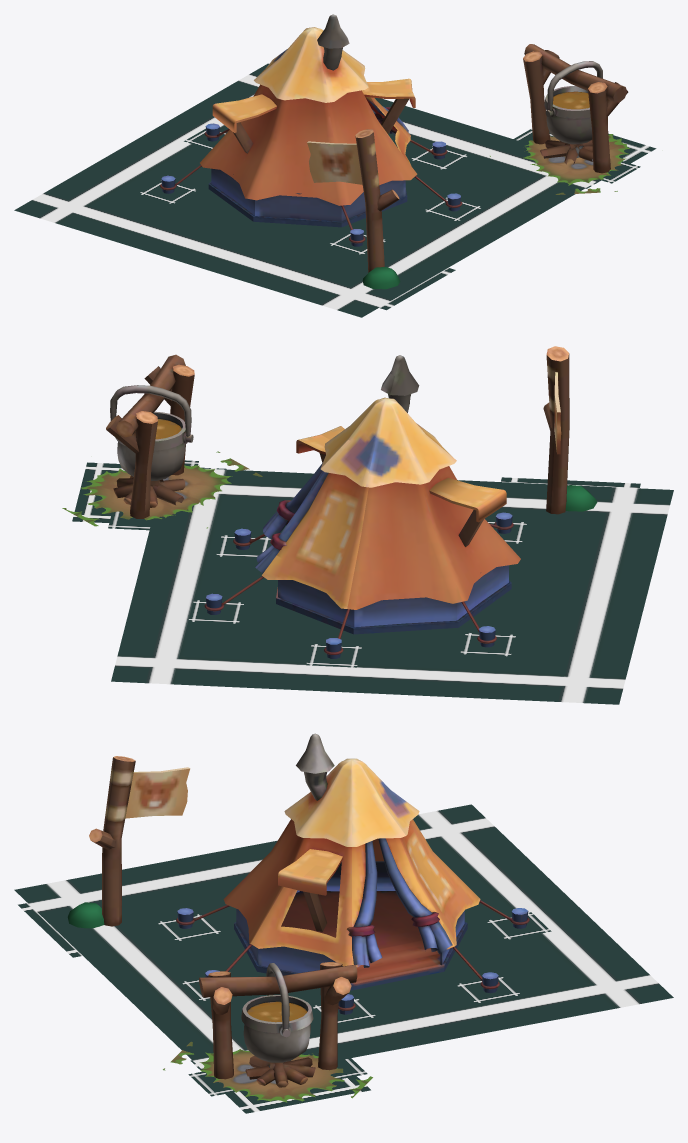
The model's file is SurvivalistArea.fbx.
The picture shows the model from 3 angles, top to bottom: view 1: azimuth 30°, elevation 25°; view 2: azimuth 150°, elevation 25°; view 3: azimuth 270°, elevation 25°; orthographic projection. The views are drawn at different scales.
Visible parts, largest first — view 1: TentShadow (6) (×2), Tent, Fire, Flag, RockGroundDecal (2), DecoRock, TentShadow (10), TentShadow (7), CauldronShadow (3), FlagShadow (1); view 2: TentShadow (6) (×2), Tent, Fire, RockGroundDecal (2), Flag, CauldronShadow (3) (×2), TentShadow (10), TentShadow (9), TentShadow (8), DecoRock, FlagShadow (1); view 3: TentShadow (6), Tent, Fire, Flag, RockGroundDecal (2), CauldronShadow (3), TentShadow (11), TentShadow (9), TentShadow (8), DecoRock, FlagShadow (1).
Boxes of the visible parts, left/top/right/bottom form: TentShadow (6) (×2): left=14, top=63, right=615, bottom=317; Tent: left=160, top=14, right=462, bottom=246; Fire: left=523, top=44, right=628, bottom=173; Flag: left=307, top=129, right=399, bottom=272; RockGroundDecal (2): left=490, top=134, right=630, bottom=194; DecoRock: left=362, top=267, right=400, bottom=289; TentShadow (10): left=138, top=180, right=197, bottom=204; TentShadow (7): left=423, top=197, right=482, bottom=221; CauldronShadow (3): left=585, top=133, right=656, bottom=188; FlagShadow (1): left=379, top=268, right=455, bottom=310; TentShadow (6) (×2): left=111, top=468, right=673, bottom=704; Tent: left=204, top=355, right=520, bottom=658; Fire: left=106, top=354, right=194, bottom=518; RockGroundDecal (2): left=62, top=451, right=262, bottom=528; Flag: left=543, top=346, right=569, bottom=514; CauldronShadow (3) (×2): left=72, top=462, right=226, bottom=530; TentShadow (10): left=460, top=632, right=516, bottom=656; TentShadow (9): left=306, top=644, right=362, bottom=667; TentShadow (8): left=188, top=600, right=244, bottom=623; DecoRock: left=565, top=485, right=597, bottom=511; FlagShadow (1): left=501, top=477, right=640, bottom=488; TentShadow (6): left=14, top=804, right=673, bottom=1083; Tent: left=176, top=733, right=529, bottom=1014; Fire: left=199, top=962, right=357, bottom=1087; Flag: left=89, top=756, right=190, bottom=926; RockGroundDecal (2): left=163, top=1041, right=372, bottom=1102; CauldronShadow (3): left=190, top=1060, right=370, bottom=1113; TentShadow (11): left=157, top=914, right=221, bottom=941; TentShadow (9): left=486, top=912, right=551, bottom=939; TentShadow (8): left=456, top=976, right=520, bottom=1003; DecoRock: left=67, top=902, right=104, bottom=928; FlagShadow (1): left=18, top=903, right=82, bottom=957.
Bounding box in the file's own units: 9.52 × 3.17 × 8.16.
